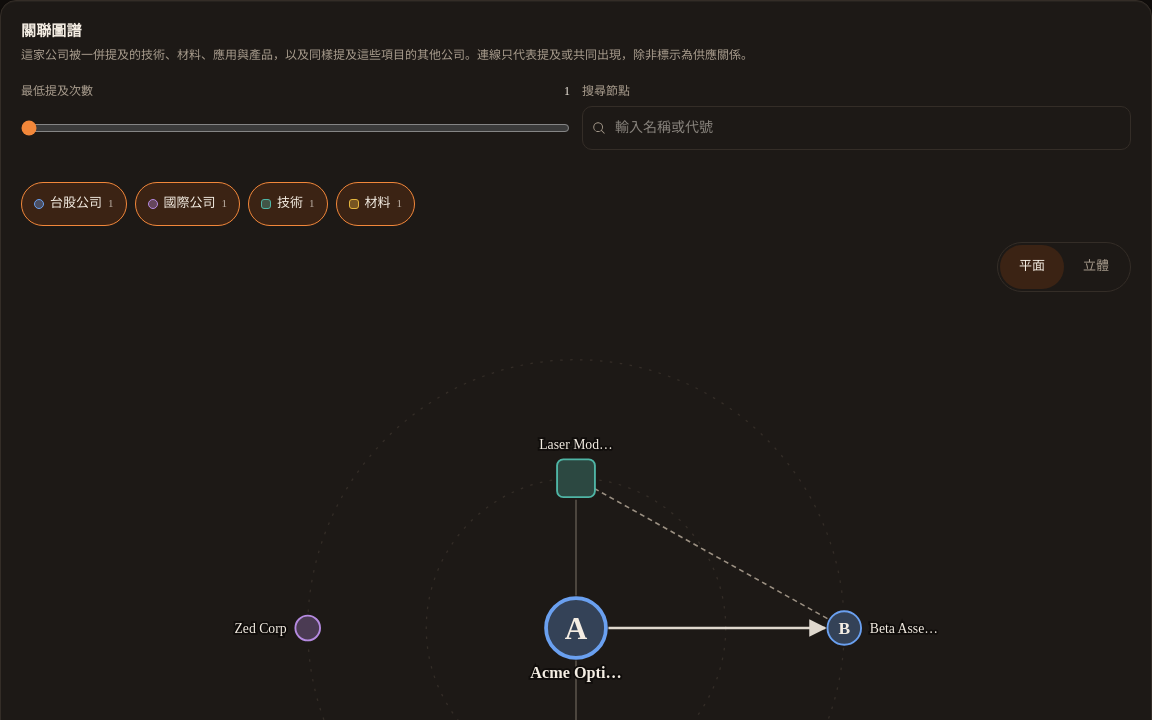
Scenario: EntityGraph › search counts matches and dims the nodes that do not match
The image size is (1152, 720).
Type "laser" into the search field labelled "搜尋節點". click: point(856, 128)
box: [582,106,1131,150]
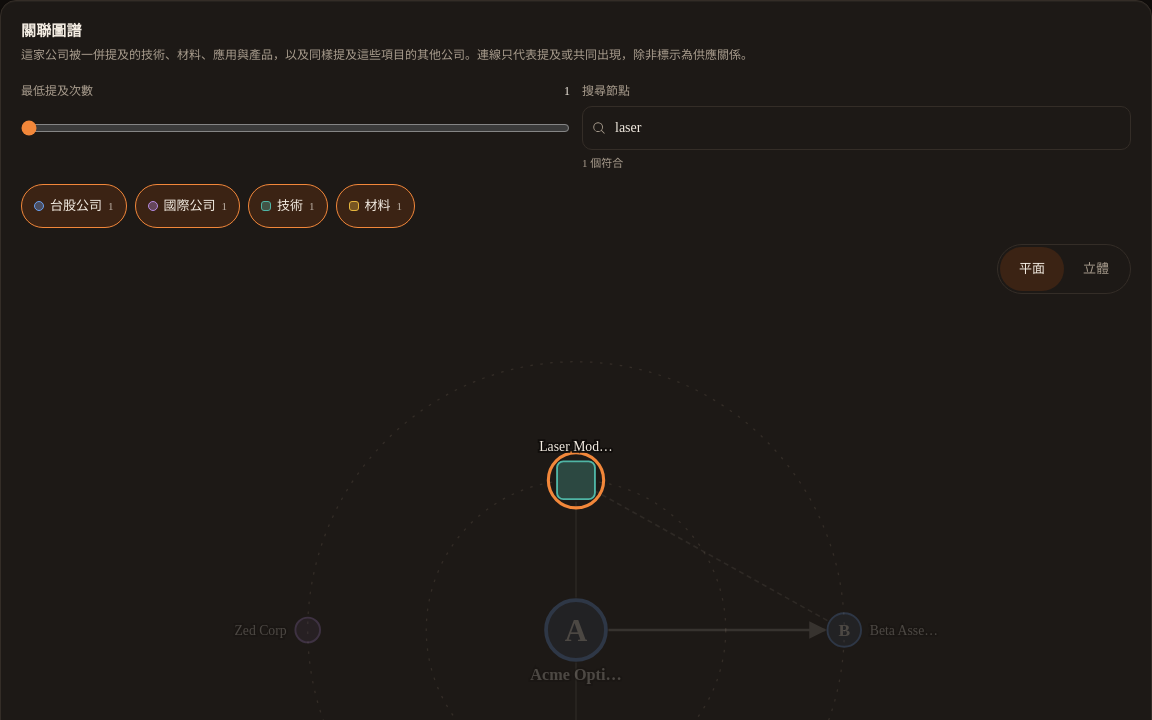
Replace the text in the search field labelled "搜尋節點" with "zzz". click: point(856, 128)
box: [582,106,1131,150]
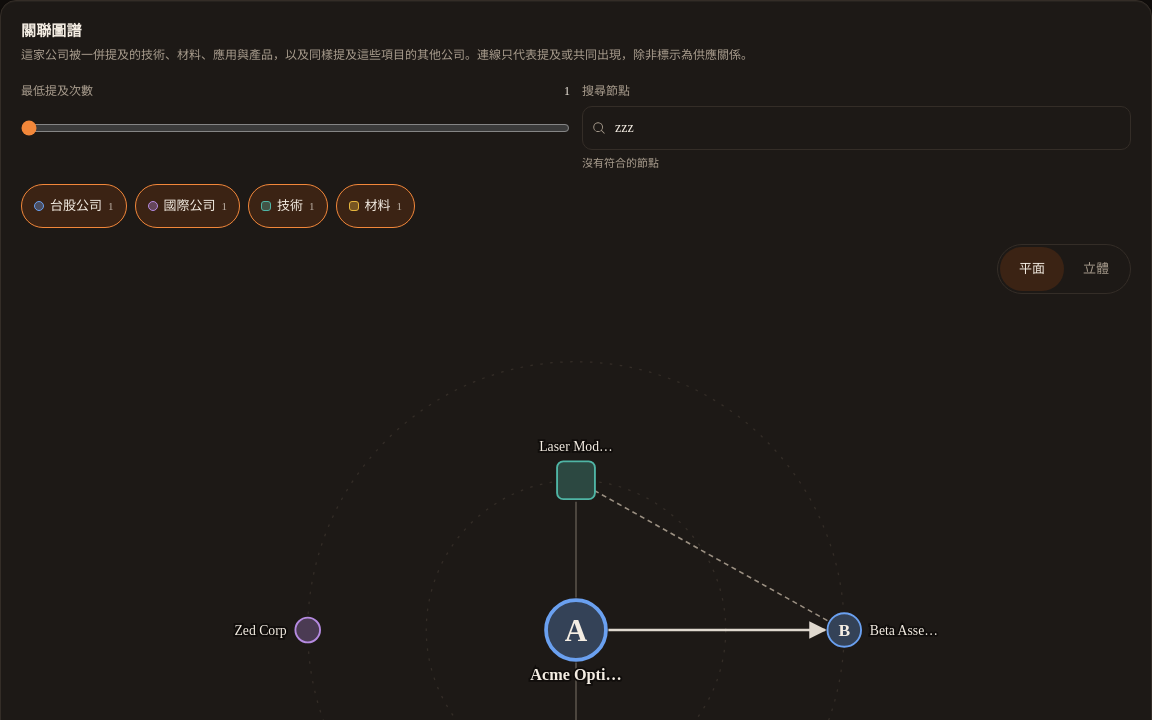
Now the text "沒有符合的節點" is shown, box [582,156,659,168]
